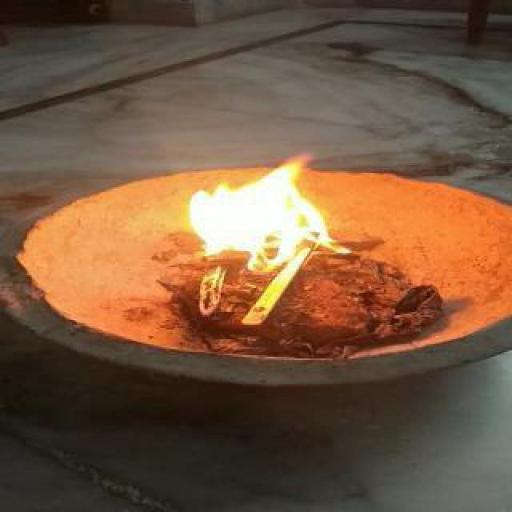smoke: (178, 149, 362, 280)
